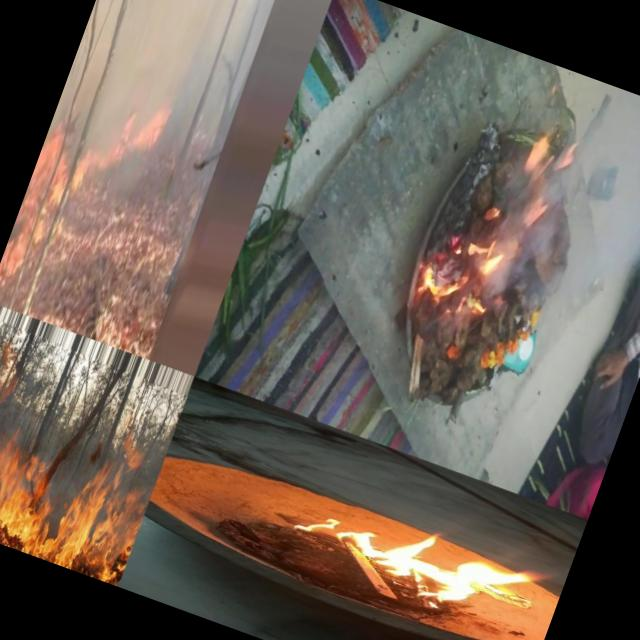fire: (270, 473, 565, 640), (0, 390, 163, 587), (0, 128, 65, 304), (482, 358, 572, 464), (535, 423, 611, 518), (108, 89, 176, 179), (28, 144, 78, 252), (65, 143, 102, 209)
smoke: (426, 167, 640, 436)
